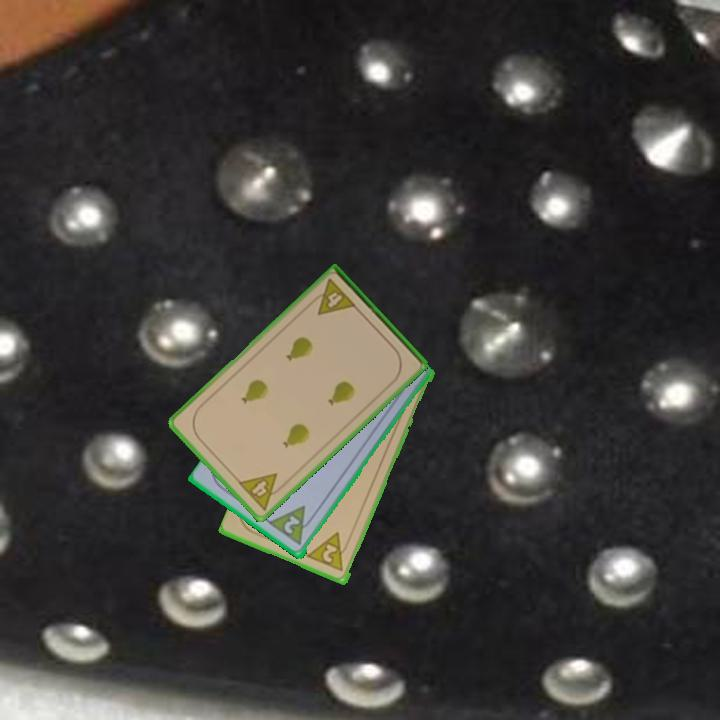2p: (266, 502, 319, 549), (305, 529, 352, 575)
4p: (234, 469, 289, 513), (306, 275, 359, 318)
